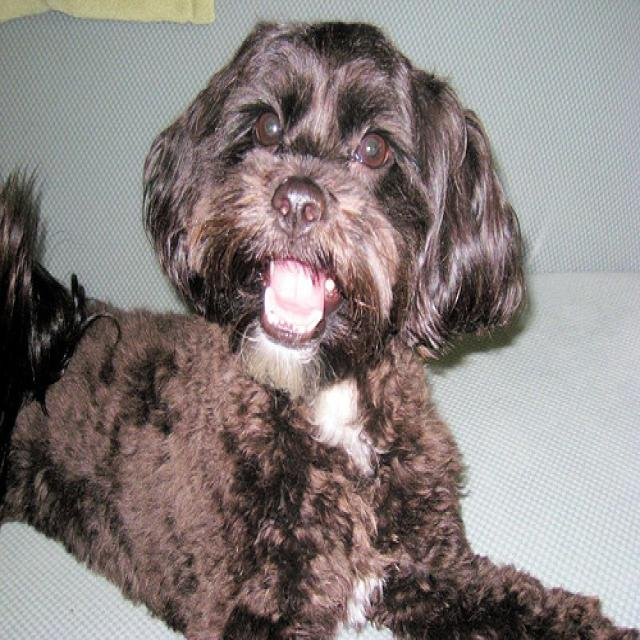dog-havanese: (1, 5, 637, 637)
